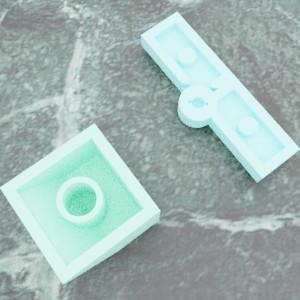lego: (141, 11, 300, 182), (0, 123, 160, 283)
